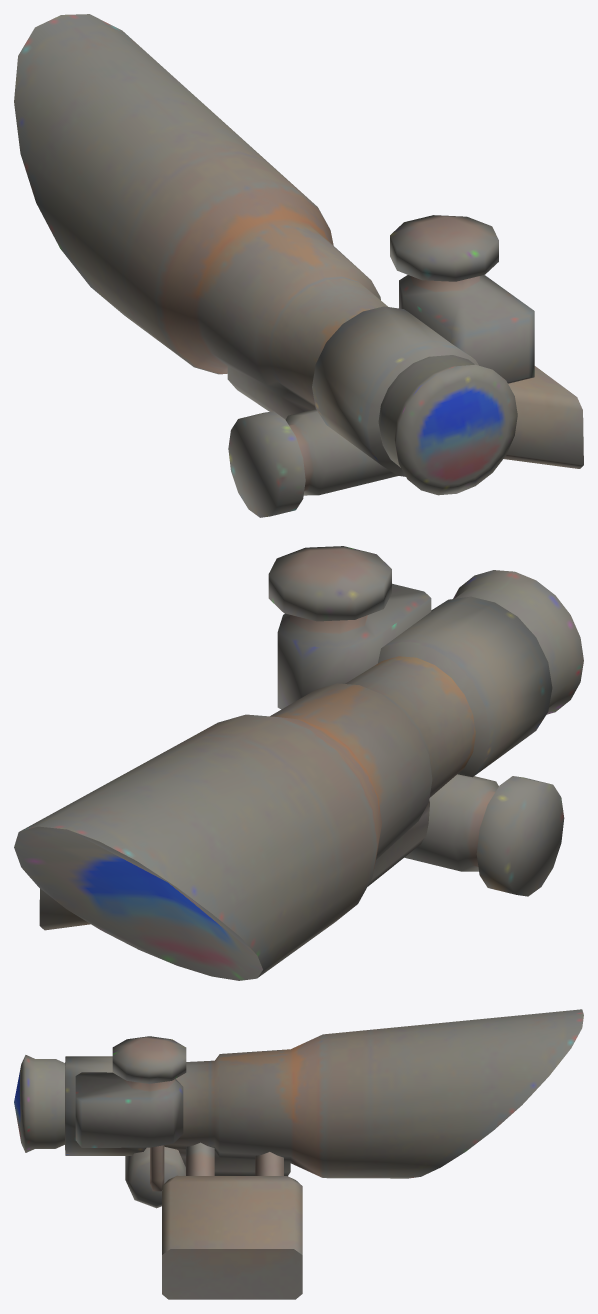
The model's file is sight5.obj.
The picture shows the model from 3 angles, top to bottom: view 1: azimuth 30°, elevation 25°; view 2: azimuth 150°, elevation 25°; view 3: azimuth 270°, elevation 25°; orthographic projection. The views are drawn at different scales.
Visible parts, largest first — view 1: sight5; view 2: sight5; view 3: sight5.
Boxes of the visible parts, box(x1,y1,x2,y2) form: sight5: box(14, 14, 583, 517); sight5: box(14, 546, 583, 980); sight5: box(14, 1009, 583, 1299).
Bounding box in the file's own units: 10.51 × 8.78 × 21.9.
